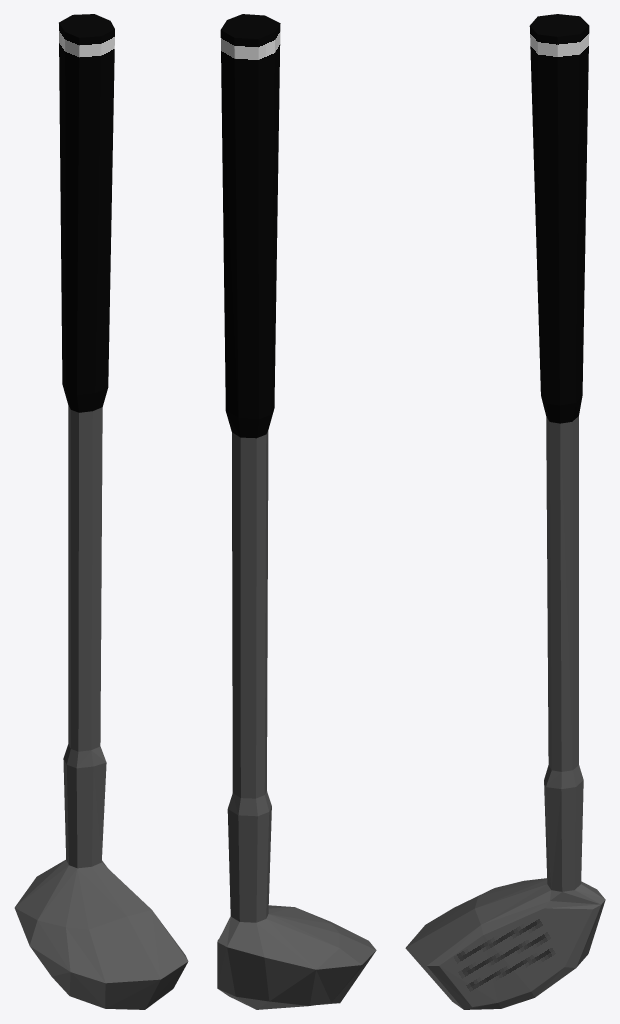
Rendered from roofClub.obj.
The picture shows the model from 3 angles, left to right: view 1: azimuth 30°, elevation 25°; view 2: azimuth 150°, elevation 25°; view 3: azimuth 270°, elevation 25°; orthographic projection. The views are drawn at different scales.
Parts seen in each view (by area): view 1: roofClub.001_ID20, roofClub_ID12; view 2: roofClub.001_ID20, roofClub_ID12; view 3: roofClub.001_ID20, roofClub_ID12.
Part boxes in pixels (<box>): roofClub.001_ID20: <box>14,405,188,1009</box>; roofClub_ID12: <box>59,14,114,412</box>; roofClub.001_ID20: <box>217,430,376,1009</box>; roofClub_ID12: <box>220,14,280,438</box>; roofClub.001_ID20: <box>405,416,605,1009</box>; roofClub_ID12: <box>529,14,589,423</box>.
Size of the model in its own units: 0.1049 by 0.769 by 0.1434.
Materials: 2 (2 with a texture image).
